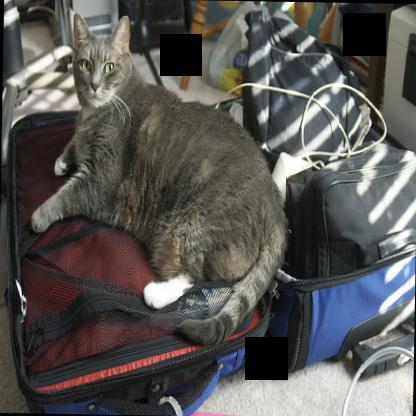handbag: (241, 9, 374, 161)
suitcase: (4, 110, 415, 416)
